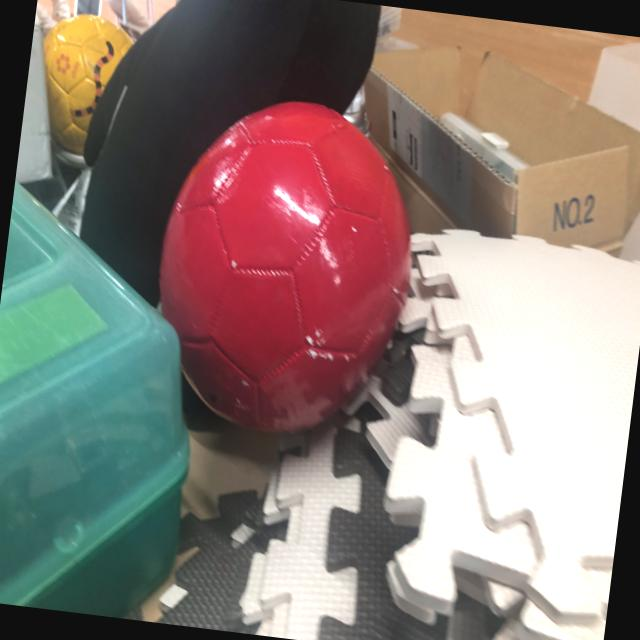red_ball: (139, 88, 429, 456)
